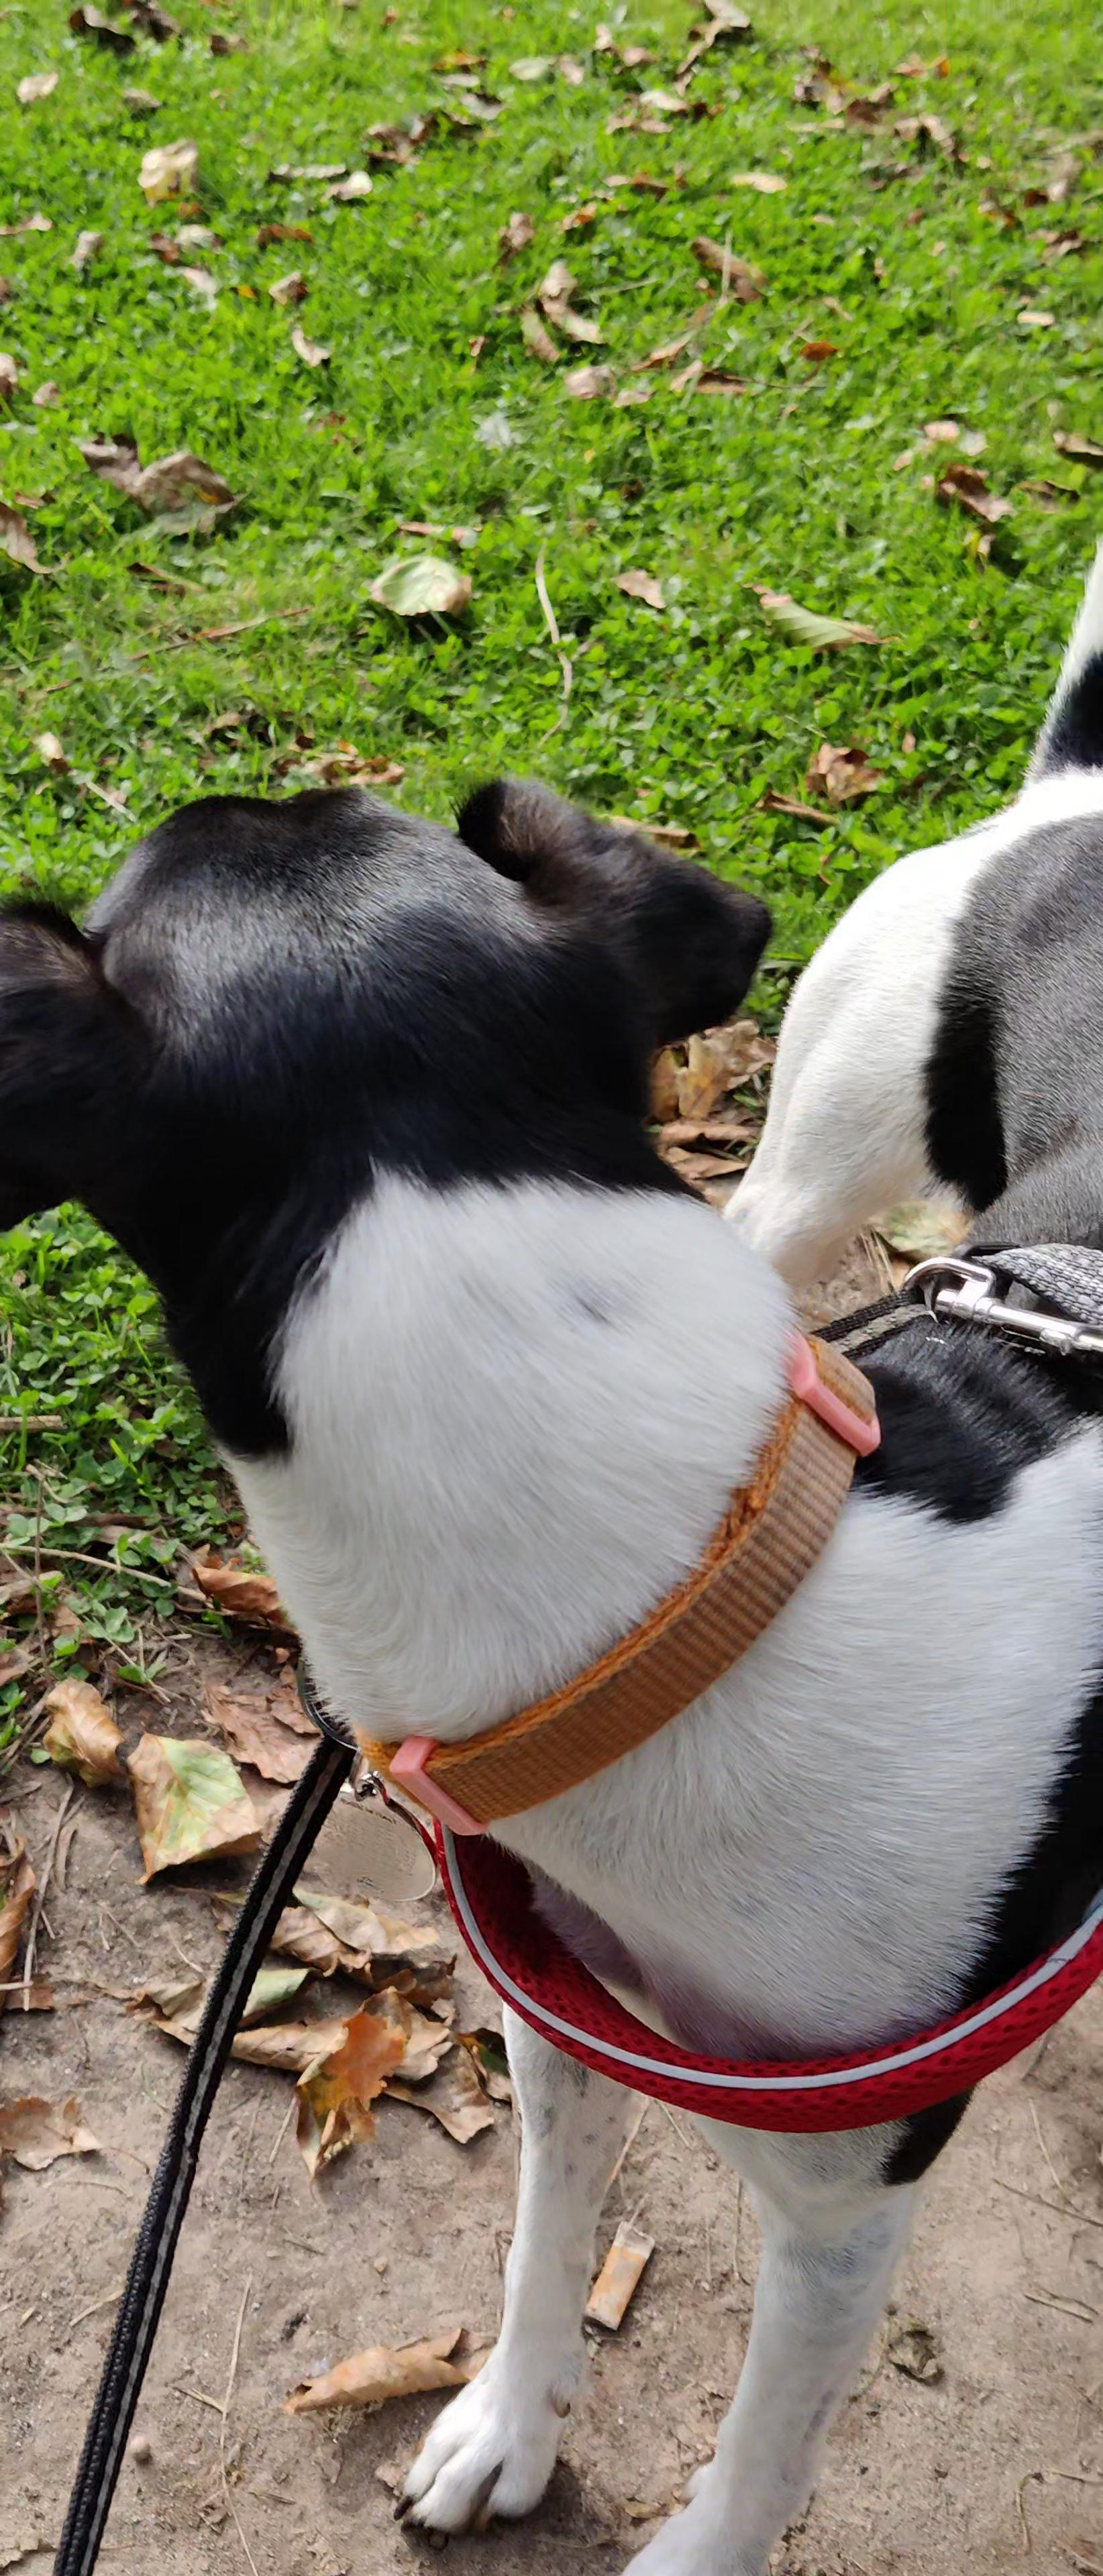Dog: (0, 511, 1103, 2576)
